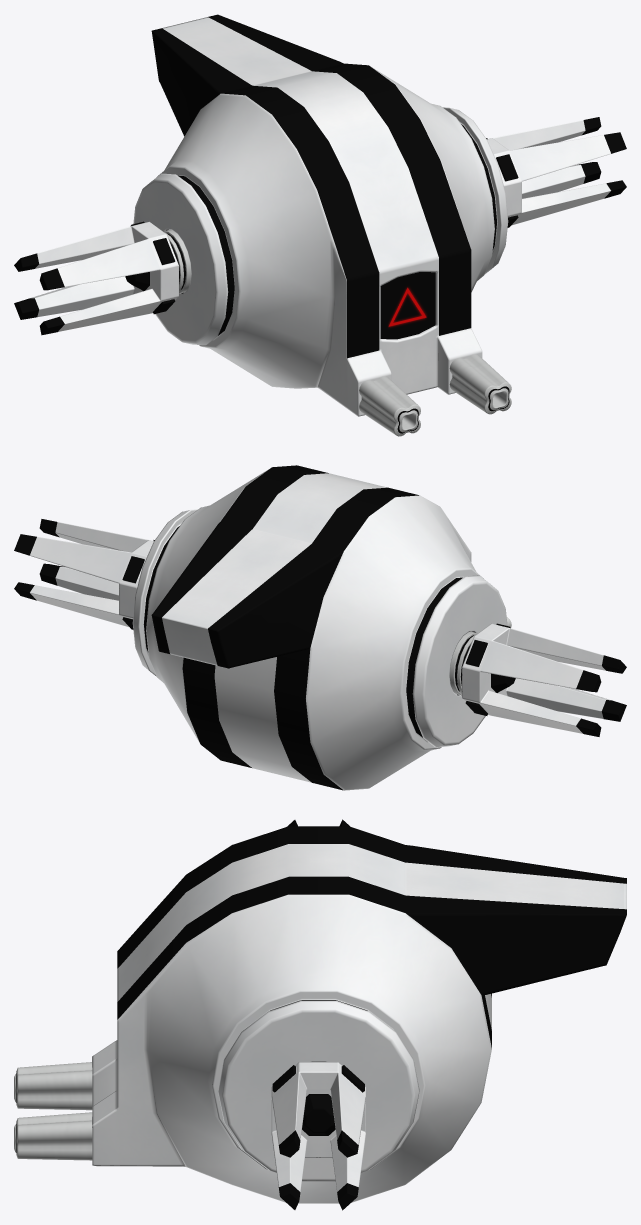
The model's file is SciFiDroid.fbx.
3 renders of one model, top to bottom at view 1: azimuth 30°, elevation 25°; view 2: azimuth 150°, elevation 25°; view 3: azimuth 270°, elevation 25°, orthographic. The views are drawn at different scales.
Visible parts, largest first — view 1: DroidSF3, Wings, Canons, FrontDisplay, SF3Axle; view 2: DroidSF3, Wings, SF3Axle; view 3: DroidSF3, Wings, Canons.
Boxes of the visible parts, box(x1,y1,x2,y2) form: DroidSF3: box(133, 14, 508, 416); Wings: box(14, 117, 626, 335); Canons: box(359, 354, 511, 436); FrontDisplay: box(380, 272, 435, 339); SF3Axle: box(163, 230, 191, 293); DroidSF3: box(132, 465, 507, 790); Wings: box(14, 519, 626, 736); SF3Axle: box(449, 631, 477, 695); DroidSF3: box(92, 826, 626, 1203); Wings: box(271, 819, 365, 1210); Canons: box(14, 1062, 92, 1160).
Bounding box in the file's own units: 297 × 133 × 240.
